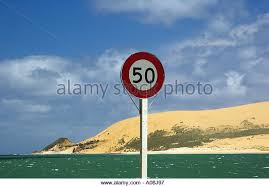Speed_limit_50km: (121, 52, 167, 99)
